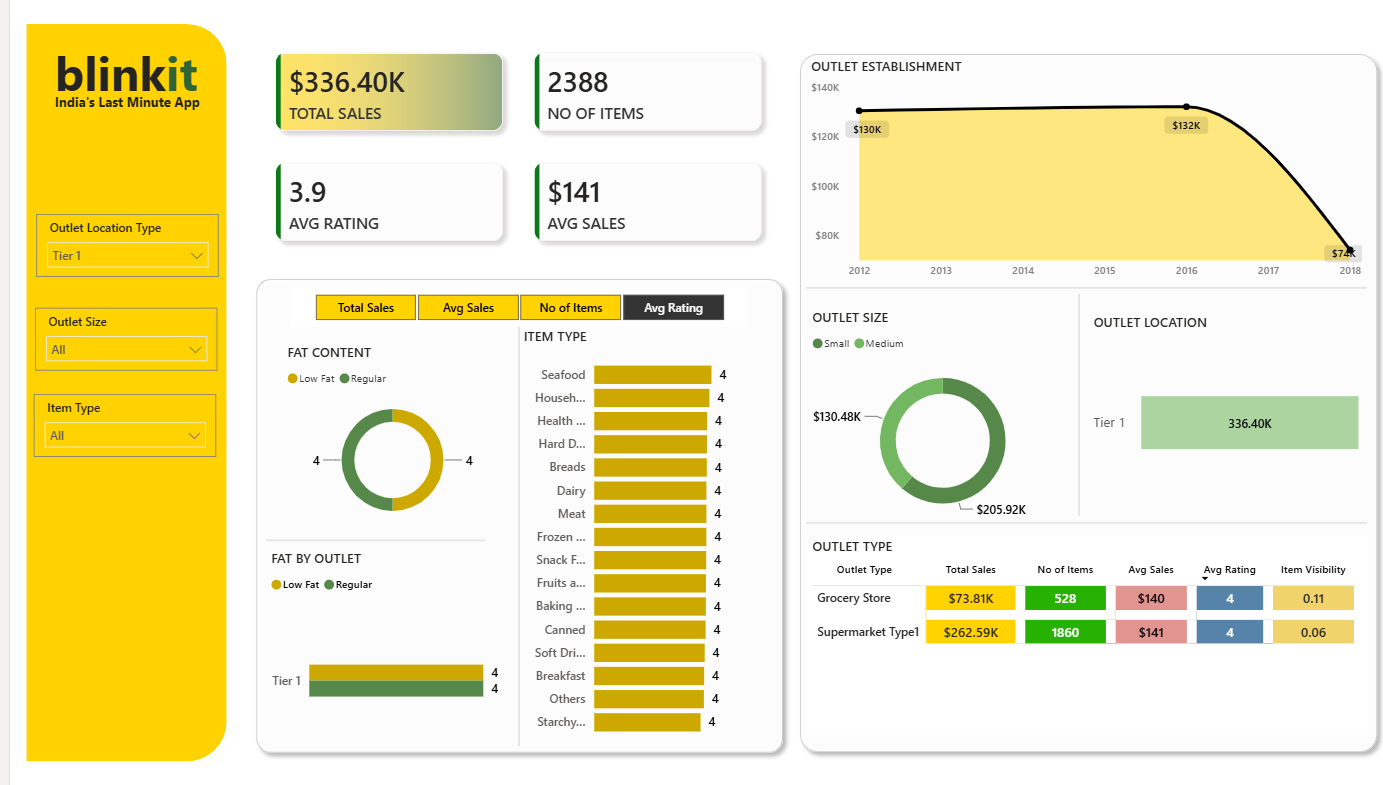

Layout of this report page (visuals, bound fields, positions):
{"tool":"powerbi","page":{"name":"Page 1","canvas":[1400,800],"ordinal":0},"visuals":[{"type":"shape","box":[16.5,25.5,204.1,750.4],"z":0},{"type":"textbox","box":[40.7,36.9,156.4,81.4],"z":1000},{"type":"textbox","box":[40.7,90.3,161.5,28],"z":2000},{"type":"cardVisual","fields":{"Data":["BlinkIT Grocery Data.Total Sales","BlinkIT Grocery Data.No of Items","BlinkIT Grocery Data.Avg Rating","BlinkIT Grocery Data.Avg Sales"]},"box":[241,25.6,553.8,251.3],"z":3000},{"type":"shape","box":[241,275.6,553.8,500],"z":4000},{"type":"donutChart","title":"FAT CONTENT","fields":{"Y":["BlinkIT Grocery Data.Avg Rating"],"Category":["BlinkIT Grocery Data.Item Fat Content"]},"box":[276.9,350,224.4,193.6],"z":5000},{"type":"slicer","fields":{"Values":["Metrics.Metrics"]},"box":[284.6,293.6,465.4,39.7],"z":6000},{"type":"clusteredBarChart","title":"FAT BY OUTLET","fields":{"Y":["BlinkIT Grocery Data.Avg Rating"],"Category":["BlinkIT Grocery Data.Outlet Location Type"],"Series":["BlinkIT Grocery Data.Item Fat Content"]},"box":[260.3,559,241,216.7],"z":7000},{"type":"shape","box":[260.3,543.6,223.1,15.4],"z":8000},{"type":"shape","box":[483.3,333.3,69.2,426.9],"z":9000},{"type":"barChart","title":"ITEM TYPE","fields":{"Y":["BlinkIT Grocery Data.Avg Rating"],"Category":["BlinkIT Grocery Data.Item Type"]},"box":[517.9,333.3,256.4,426.9],"z":10000},{"type":"shape","box":[794.9,47.4,605.1,728.2],"z":11000},{"type":"lineChart","title":"OUTLET ESTABLISHMENT","fields":{"Y":["BlinkIT Grocery Data.Total Sales"],"Category":["BlinkIT Grocery Data.Outlet Establishment Year"]},"box":[810.3,59,570.5,234.6],"z":12000},{"type":"shape","box":[810.3,283.3,570.5,20.5],"z":13000},{"type":"donutChart","title":"OUTLET SIZE","fields":{"Y":["BlinkIT Grocery Data.Total Sales"],"Category":["BlinkIT Grocery Data.Outlet Size"]},"box":[811.5,314.1,275.6,225.6],"z":14000},{"type":"shape","box":[1052.6,300,69.2,225.6],"z":15000},{"type":"funnel","title":"OUTLET LOCATION","fields":{"Y":["Sum(BlinkIT Grocery Data.Sales)"],"Category":["BlinkIT Grocery Data.Outlet Location Type"]},"box":[1097.4,319.2,284.6,206.4],"z":16000},{"type":"shape","box":[810.3,523.1,570.5,20.5],"z":17000},{"type":"pivotTable","title":"OUTLET TYPE","fields":{"Rows":["BlinkIT Grocery Data.Outlet Type"],"Values":["BlinkIT Grocery Data.Total Sales","BlinkIT Grocery Data.No of Items","BlinkIT Grocery Data.Avg Sales","BlinkIT Grocery Data.Avg Rating","Avg(BlinkIT Grocery Data.Item Visibility)"]},"box":[811.5,547.4,570.5,202.6],"z":18000},{"type":"slicer","fields":{"Values":["BlinkIT Grocery Data.Outlet Size"]},"box":[25.6,314.1,185.9,64.1],"z":19000},{"type":"slicer","fields":{"Values":["BlinkIT Grocery Data.Item Type"]},"box":[24.4,401.3,185.9,64.1],"z":20000},{"type":"slicer","fields":{"Values":["BlinkIT Grocery Data.Outlet Location Type"]},"box":[26.9,219.2,185.9,64.1],"z":21000}]}

Visuals, with their boxes in screenshot pixels (x1, y1, x2, y2), scaled from the page's 1400x800 canvas onto the 1383x785 screenshot:
shape: l=16, t=25, r=218, b=761
textbox: l=40, t=36, r=195, b=116
textbox: l=40, t=89, r=200, b=116
cardVisual - BlinkIT Grocery Data.Total Sales x BlinkIT Grocery Data.No of Items: l=238, t=25, r=785, b=272
shape: l=238, t=270, r=785, b=761
"FAT CONTENT" donutChart: l=274, t=343, r=495, b=533
slicer - Metrics.Metrics: l=281, t=288, r=741, b=327
"FAT BY OUTLET" clusteredBarChart: l=257, t=549, r=495, b=761
shape: l=257, t=533, r=478, b=549
shape: l=477, t=327, r=546, b=746
"ITEM TYPE" barChart: l=512, t=327, r=765, b=746
shape: l=785, t=47, r=1382, b=761
"OUTLET ESTABLISHMENT" lineChart: l=800, t=58, r=1364, b=288
shape: l=800, t=278, r=1364, b=298
"OUTLET SIZE" donutChart: l=802, t=308, r=1074, b=530
shape: l=1040, t=294, r=1108, b=516
"OUTLET LOCATION" funnel: l=1084, t=313, r=1365, b=516
shape: l=800, t=513, r=1364, b=533
"OUTLET TYPE" pivotTable: l=802, t=537, r=1365, b=736
slicer - BlinkIT Grocery Data.Outlet Size: l=25, t=308, r=209, b=371
slicer - BlinkIT Grocery Data.Item Type: l=24, t=394, r=208, b=457
slicer - BlinkIT Grocery Data.Outlet Location Type: l=27, t=215, r=210, b=278
